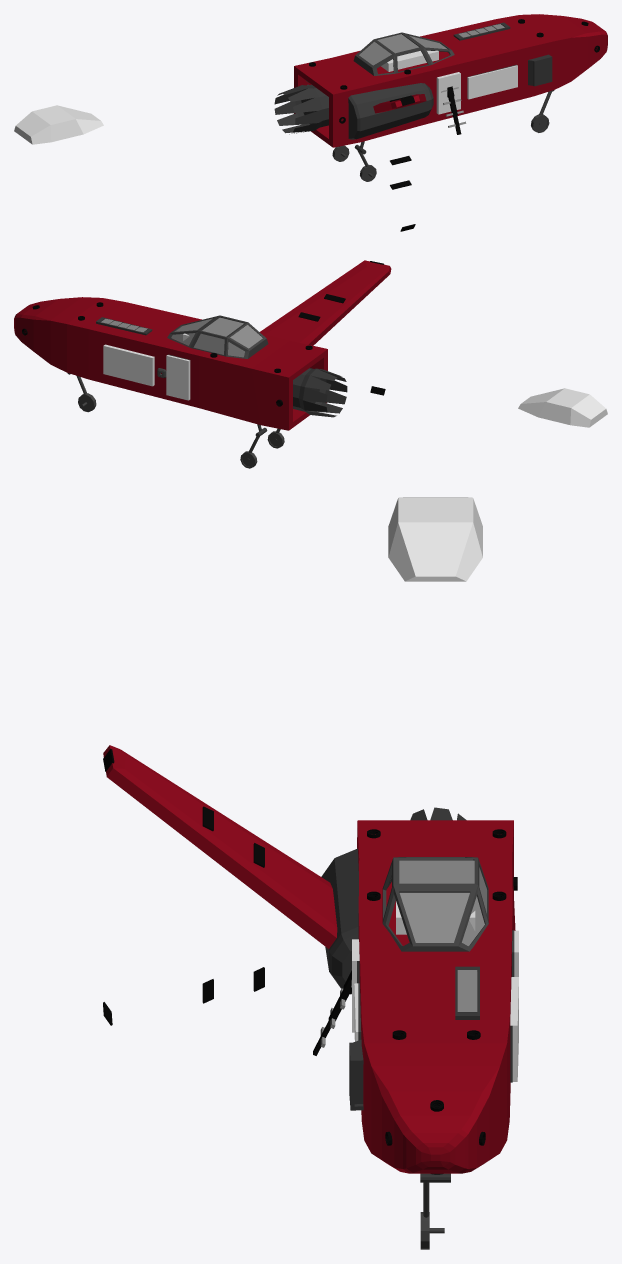
The model's file is FighterGen7_red_closed.glb.
The picture shows the model from 3 angles, top to bottom: view 1: azimuth 30°, elevation 25°; view 2: azimuth 150°, elevation 25°; view 3: azimuth 270°, elevation 25°; orthographic projection. The views are drawn at different scales.
Visible parts, largest first — view 1: Body, Cylinder, Cube.100, Cylinder.002, Cube.099, Cube.021, Cube.080, Cube.043, Cube.090, Cube.104, Cube.106, Cube.003; view 2: Body, Cube.003, Cube.100, Cylinder.002, Cube.022, Cube.099, Cube.072, Cube.104, Cube.105, Cube.106; view 3: Body, Cube.003, Cube.100, Cube.099, Cylinder, Cube.102, Cube.104, Cube.043.
Part boxes in pixels (bbox=[...]): Body: bbox=[294, 14, 607, 147]; Cylinder: bbox=[348, 83, 433, 139]; Cube.100: bbox=[14, 105, 103, 144]; Cylinder.002: bbox=[274, 84, 328, 134]; Cube.099: bbox=[353, 32, 454, 75]; Cube.021: bbox=[467, 65, 517, 99]; Cube.080: bbox=[436, 72, 460, 114]; Cube.043: bbox=[528, 54, 552, 86]; Cube.090: bbox=[381, 50, 438, 71]; Cube.104: bbox=[377, 34, 418, 53]; Cube.106: bbox=[359, 41, 391, 65]; Cube.003: bbox=[373, 94, 426, 113]; Body: bbox=[14, 297, 327, 430]; Cube.003: bbox=[260, 260, 391, 345]; Cube.100: bbox=[518, 388, 607, 427]; Cylinder.002: bbox=[293, 368, 347, 417]; Cube.022: bbox=[103, 344, 154, 386]; Cube.099: bbox=[167, 315, 268, 358]; Cube.072: bbox=[166, 355, 190, 400]; Cube.104: bbox=[202, 317, 243, 336]; Cube.105: bbox=[193, 333, 224, 354]; Cube.106: bbox=[230, 324, 262, 348]; Body: bbox=[357, 820, 515, 1173]; Cube.003: bbox=[103, 745, 337, 948]; Cube.100: bbox=[388, 497, 482, 581]; Cube.099: bbox=[382, 857, 488, 951]; Cylinder: bbox=[321, 848, 358, 994]; Cube.102: bbox=[399, 892, 469, 942]; Cube.104: bbox=[399, 860, 474, 883]; Cube.043: bbox=[349, 1039, 363, 1110].
Size of the model in its own units: 33.95 by 7.98 by 10.52.
